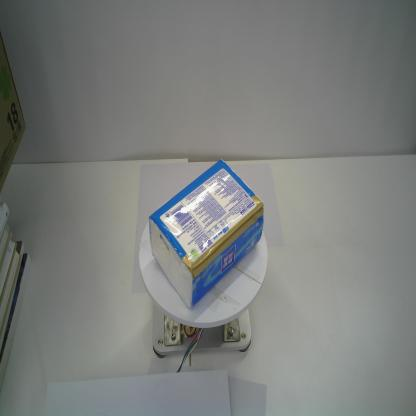Tissue: (148, 156, 266, 311)
